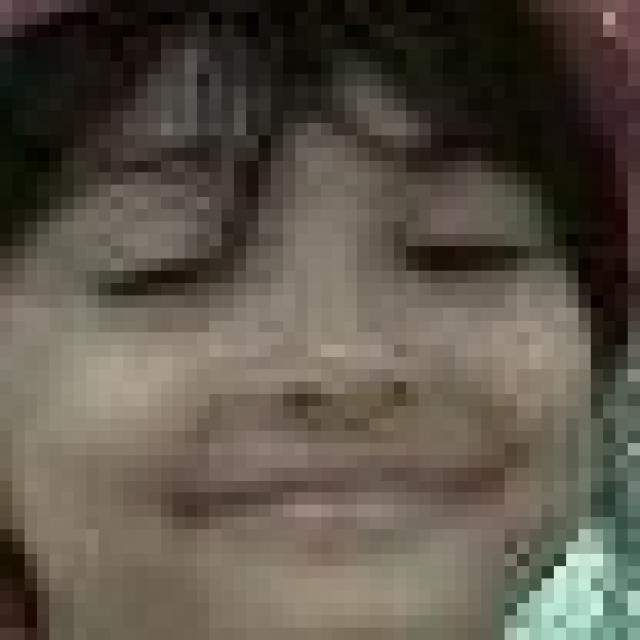Eyeclosed: (404, 216, 528, 290), (103, 235, 217, 303)
